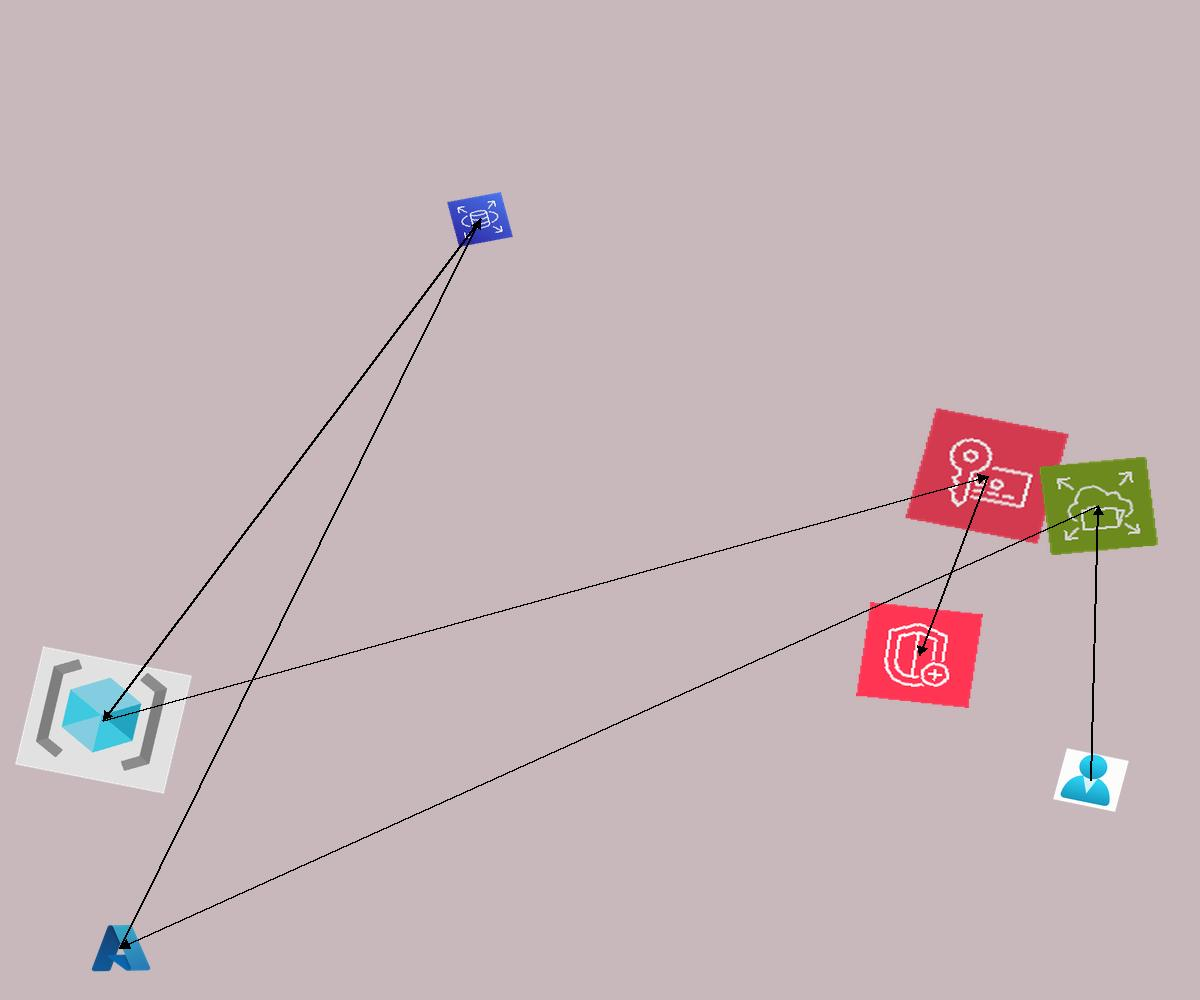AWS-EFS: (1038, 456, 1159, 556)
AWS-Key-Management-Service: (904, 407, 1070, 545)
AWS-RDS: (447, 192, 513, 247)
AWS-Shield: (856, 602, 983, 708)
Azure_resource_group: (15, 646, 192, 794)
Azure_services: (88, 921, 153, 975)
Azure_users: (1053, 748, 1129, 812)
